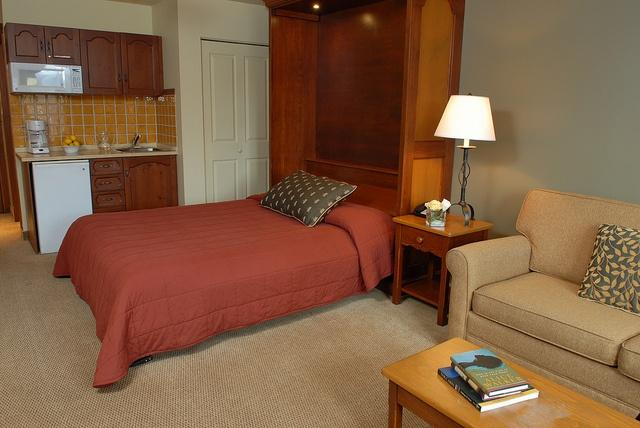Lemari: (77, 25, 164, 98)
Meja: (380, 335, 639, 427), (391, 210, 494, 242)
